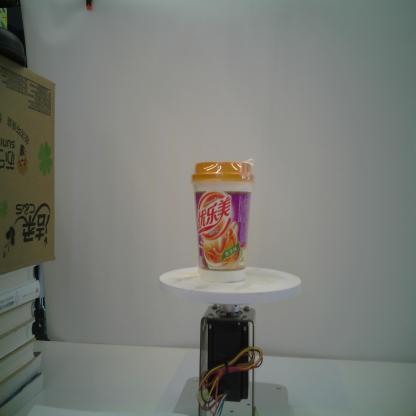Instant Drink: (188, 156, 256, 286)
